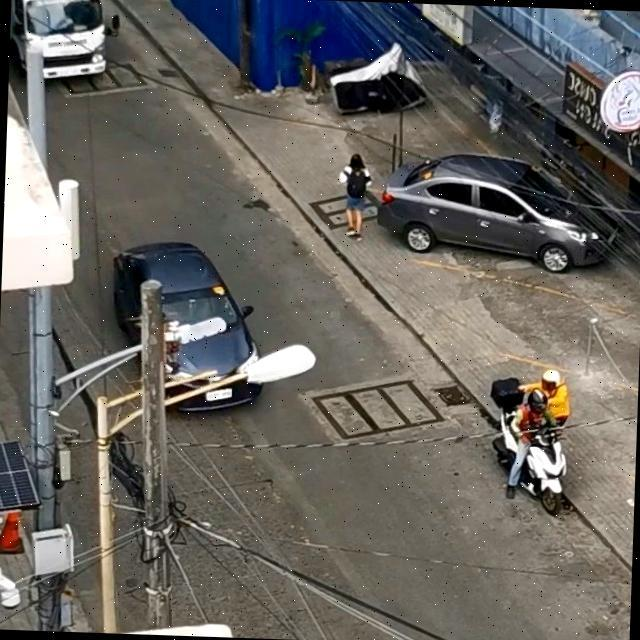Truck: (8, 0, 110, 85)
